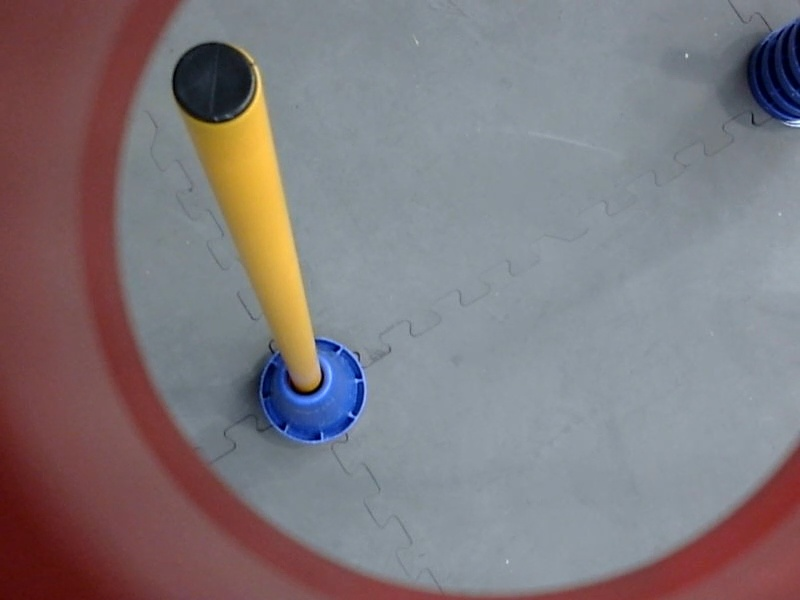tip: (166, 35, 265, 130)
